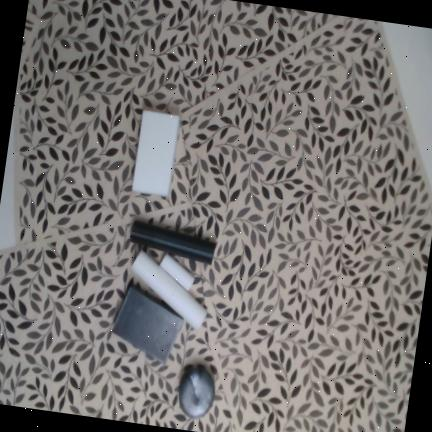Cilindro: (130, 249, 207, 329), (130, 220, 215, 264), (159, 252, 194, 291)
Esfera: (178, 366, 215, 419)
Paralelepipedo: (112, 285, 183, 363), (131, 110, 179, 197)
